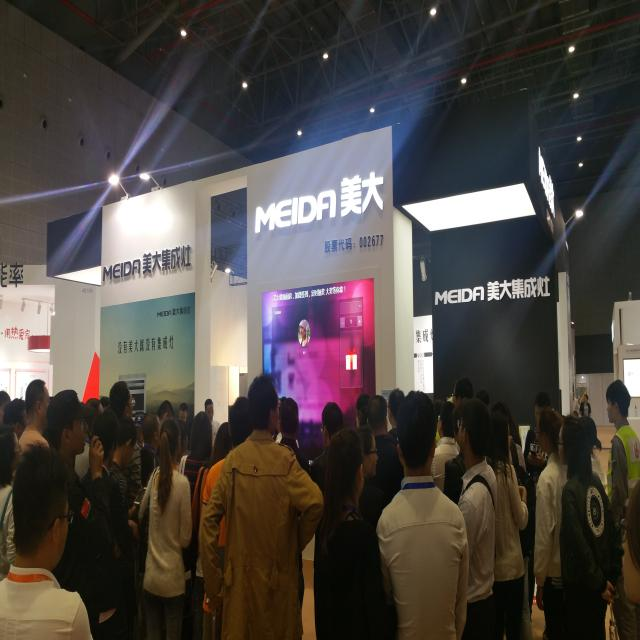body: (197, 366, 327, 640), (373, 388, 471, 640), (310, 420, 403, 640), (0, 441, 94, 640), (557, 408, 629, 640), (47, 387, 106, 634), (197, 394, 256, 639), (137, 418, 193, 640), (456, 396, 500, 639), (457, 396, 498, 640), (308, 400, 347, 640), (487, 408, 527, 640), (190, 421, 232, 640), (78, 408, 134, 560), (533, 406, 569, 640), (278, 396, 312, 612), (605, 378, 640, 526), (363, 395, 407, 512), (107, 415, 141, 546), (108, 380, 140, 506), (0, 423, 23, 582), (180, 412, 212, 508), (524, 389, 554, 488), (476, 387, 523, 450), (430, 401, 460, 495), (430, 400, 460, 493), (17, 379, 51, 461), (73, 396, 103, 484), (360, 426, 383, 526), (140, 412, 161, 488), (279, 396, 301, 468), (125, 414, 145, 493), (0, 390, 28, 439), (387, 386, 406, 446), (155, 399, 174, 458), (171, 418, 189, 476), (204, 398, 221, 450), (451, 376, 474, 408), (355, 392, 371, 430), (297, 318, 313, 349), (579, 393, 592, 418), (178, 402, 189, 423), (98, 395, 110, 412), (573, 390, 580, 417)
